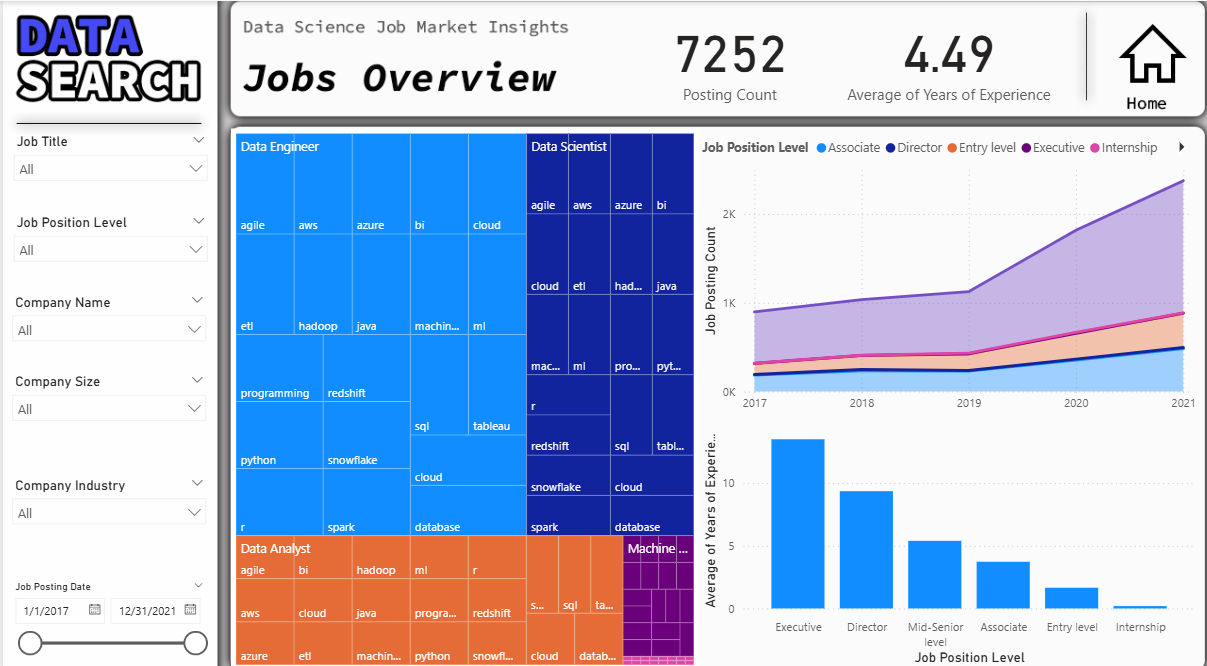

The page's visual inventory and layout, read from the dashboard file:
{"tool":"powerbi","page":{"name":"Jobs","canvas":[1280,720],"ordinal":1},"visuals":[{"type":"columnChart","fields":{"Category":["Job Postings.Job Position Level"],"Y":["Avg(Job Postings.Years of Experience)"]},"box":[736.5,443.8,532.9,264],"z":0},{"type":"stackedAreaChart","fields":{"Category":["Job Postings.Job Posting Date.Variation.Date Hierarchy.Year","Job Postings.Job Posting Date.Variation.Date Hierarchy.Quarter","Job Postings.Job Posting Date.Variation.Date Hierarchy.Month","Job Postings.Job Posting Date.Variation.Date Hierarchy.Day"],"Y":["CountNonNull(Job Postings.Job Posting ID)"],"Series":["Job Postings.Job Position Level"]},"box":[736.5,135.2,532.9,308.6],"z":1000},{"type":"treemap","fields":{"Group":["Job Postings.Job Title"],"Values":["CountNonNull(Job Postings.Job Title)"],"Details":["Job Skills.Job Skills"]},"box":[241,135.4,495.9,573.6],"z":2000},{"type":"slicer","fields":{"Values":["Job Postings.Job Title"]},"box":[2,135.4,225.1,85.6],"z":3000},{"type":"slicer","fields":{"Values":["Job Postings.Job Position Level"]},"box":[2,221.1,225.1,83.7],"z":4000},{"type":"slicer","fields":{"Values":["Job Postings.Company Name"]},"box":[0,304.7,225.1,85.6],"z":5000},{"type":"slicer","fields":{"Values":["Job Postings.Company Size"]},"box":[0,390.4,225.1,109.5],"z":6000},{"type":"slicer","fields":{"Values":["Job Postings.Company Industry"]},"box":[0,499.9,225.1,109.5],"z":7000},{"type":"slicer","fields":{"Values":["Job Postings.Job Posting Date"]},"box":[0,609.5,225.1,109.5],"z":8000},{"type":"card","fields":{"Values":["__Measures.Posting Count"]},"box":[654.2,0,233.7,119.9],"z":9000},{"type":"card","fields":{"Values":["Avg(Job Postings.Years of Experience)"]},"box":[885.9,0,233.6,119.6],"z":10000},{"type":"image","box":[1160.1,14.2,119.9,83.3],"z":10001}]}

Visuals, with their boxes in screenshot pixels (x1, y1, x2, y2), scaled from the page's 1280x720 canvas onto the 1207x666 screenshot:
columnChart - Job Postings.Job Position Level x Avg(Job Postings.Years of Experience): <bbox>694, 411, 1197, 655</bbox>
stackedAreaChart - Job Postings.Job Posting Date.Variation.Date Hierarchy.Year x Job Postings.Job Posting Date.Variation.Date Hierarchy.Quarter: <bbox>694, 125, 1197, 411</bbox>
treemap - Job Postings.Job Title x CountNonNull(Job Postings.Job Title): <bbox>227, 125, 695, 656</bbox>
slicer - Job Postings.Job Title: <bbox>2, 125, 214, 204</bbox>
slicer - Job Postings.Job Position Level: <bbox>2, 205, 214, 282</bbox>
slicer - Job Postings.Company Name: <bbox>0, 282, 212, 361</bbox>
slicer - Job Postings.Company Size: <bbox>0, 361, 212, 462</bbox>
slicer - Job Postings.Company Industry: <bbox>0, 462, 212, 564</bbox>
slicer - Job Postings.Job Posting Date: <bbox>0, 564, 212, 665</bbox>
card - __Measures.Posting Count: <bbox>617, 0, 837, 111</bbox>
card - Avg(Job Postings.Years of Experience): <bbox>835, 0, 1056, 111</bbox>
image: <bbox>1094, 13, 1206, 90</bbox>
